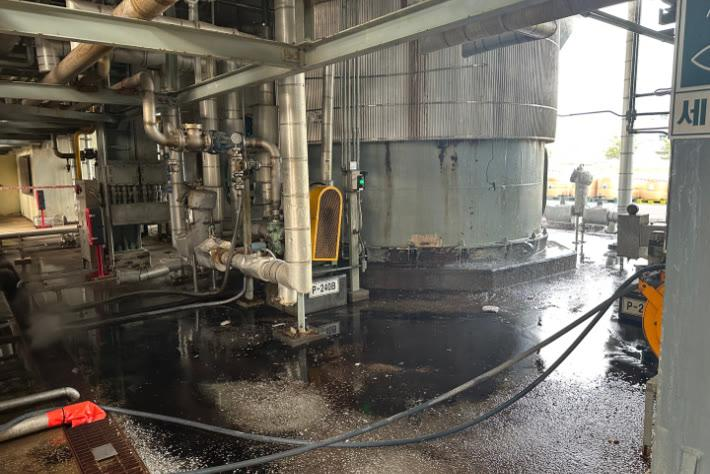water accumulation: (0, 228, 657, 474)
